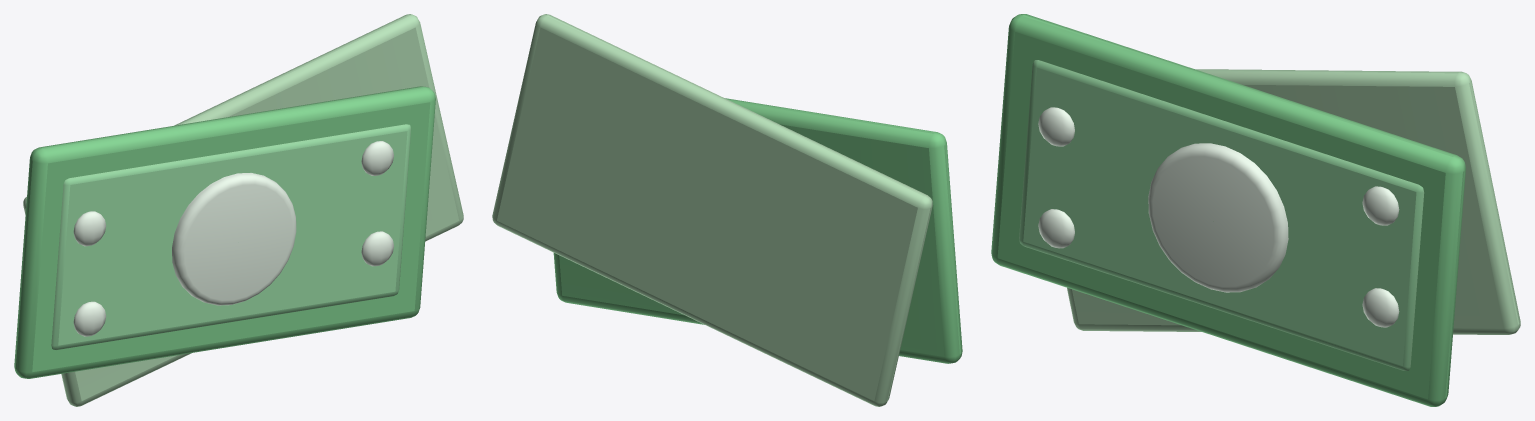
File: banknote.glb
3 views of the same model, side by side, from view 1: azimuth 30°, elevation 25°; view 2: azimuth 150°, elevation 25°; view 3: azimuth 330°, elevation 25° (orthographic). The views are drawn at different scales.
Visible parts, largest first — view 1: frame, note, ce9f8ea, back; view 2: back, note; view 3: frame, note, back, ce9f8ea.
Part boxes in pixels (box(x1,y1,x2,y2)): frame: box(51, 124, 411, 349); note: box(14, 86, 435, 378); ce9f8ea: box(73, 141, 393, 336); back: box(23, 14, 463, 406); back: box(492, 14, 932, 406); note: box(553, 98, 962, 363); frame: box(1019, 60, 1424, 370); note: box(991, 14, 1465, 406); back: box(1067, 69, 1520, 334); ce9f8ea: box(1038, 107, 1399, 327).
Size of the model in its own units: 1.27 by 0.8201 by 0.14.
